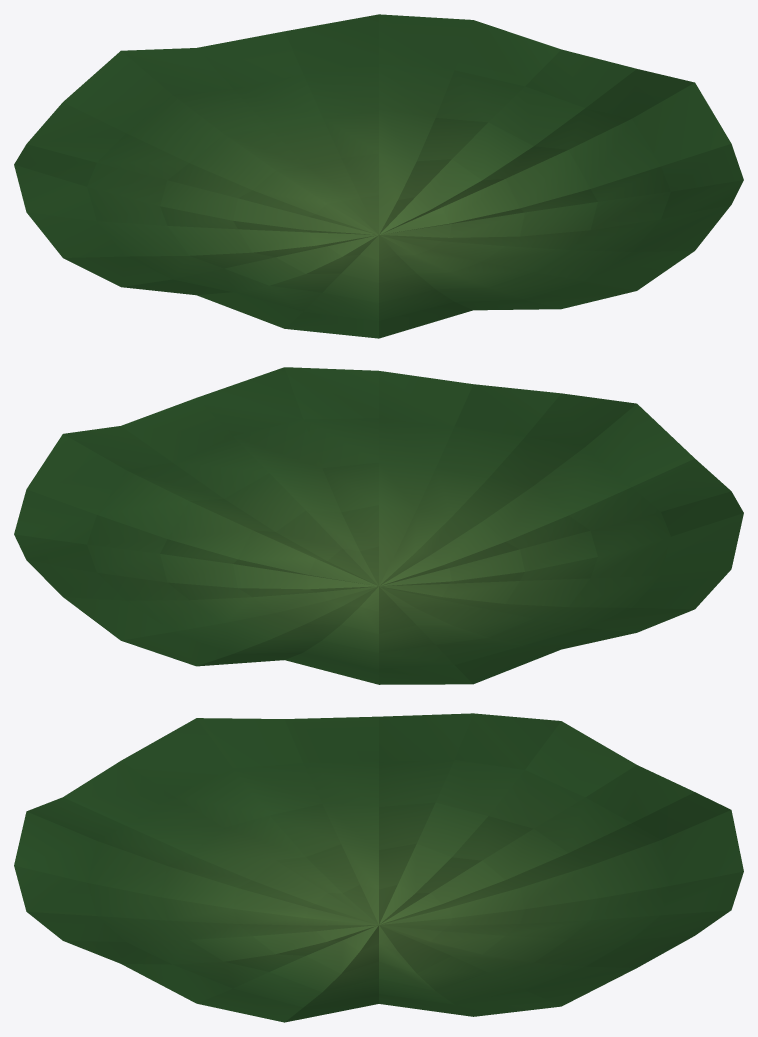
Rendered from lotus-leaf-flat.glb.
The picture shows the model from 3 angles, top to bottom: view 1: azimuth 30°, elevation 25°; view 2: azimuth 150°, elevation 25°; view 3: azimuth 270°, elevation 25°; orthographic projection.
Parts seen in each view (by area): view 1: lotus-leaf-flat; view 2: lotus-leaf-flat; view 3: lotus-leaf-flat.
Boxes of the visible parts, x1=… form: lotus-leaf-flat: x1=14, y1=14, x2=743, y2=338; lotus-leaf-flat: x1=14, y1=367, x2=743, y2=684; lotus-leaf-flat: x1=14, y1=713, x2=743, y2=1022.
Size of the model in its own units: 0.48 by 0.0547 by 0.48.
